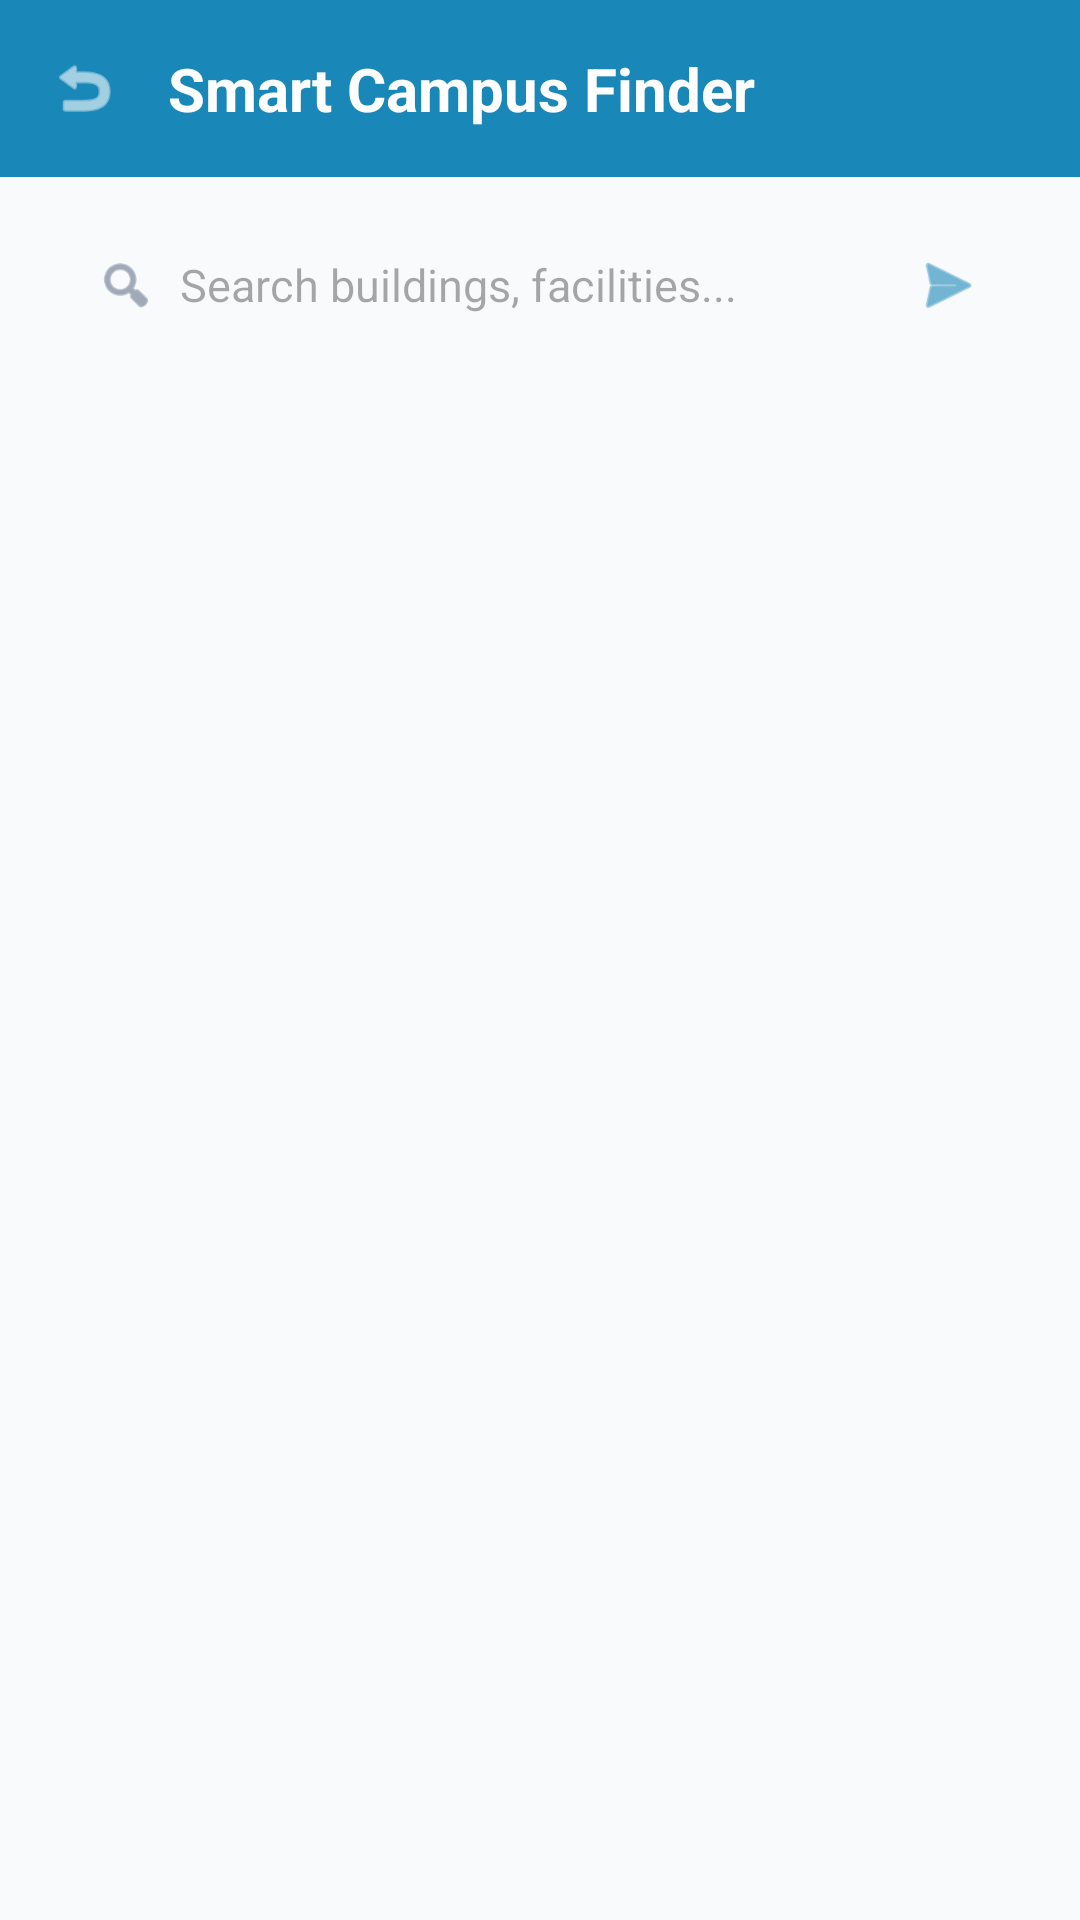

Screen size 1080w x 1920h. Icon name, then its center in pixels as (x=x, y=y):
revert: (x=85, y=88)
send: (x=949, y=285)
